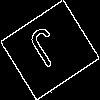J: (25, 25, 70, 77)
